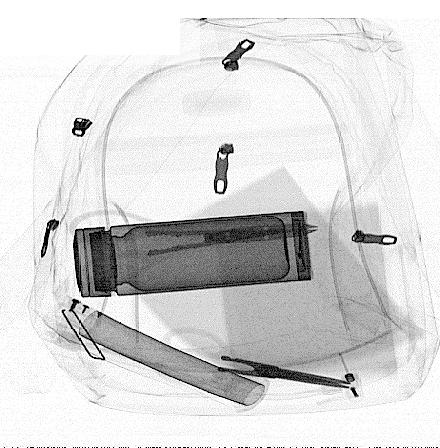Scissors: (67, 207, 324, 290), (150, 329, 356, 392)
